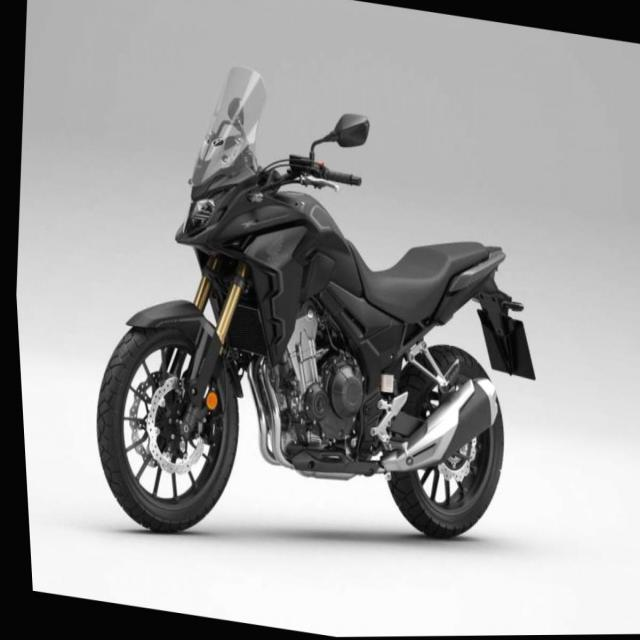CB500X: (64, 41, 566, 594)
